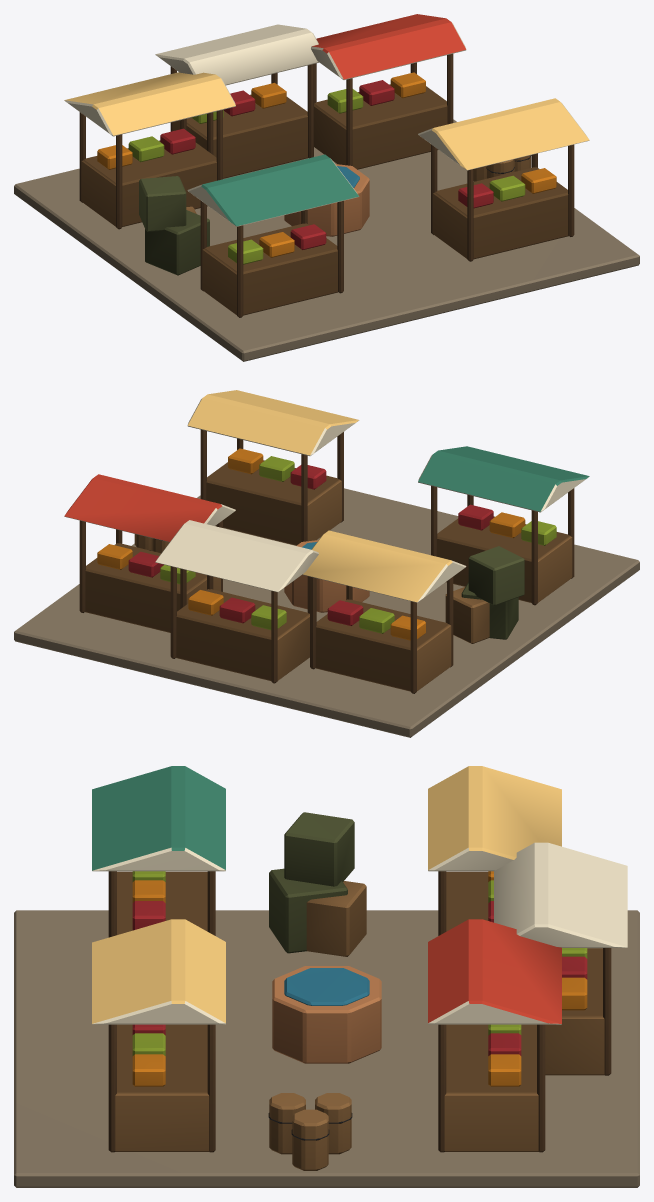
File: market.glb
3 renders of one model, top to bottom at view 1: azimuth 30°, elevation 25°; view 2: azimuth 150°, elevation 25°; view 3: azimuth 270°, elevation 25°, orthographic. The views are drawn at different scales.
Parts seen in each view (by area): view 1: market; view 2: market; view 3: market.
Boxes of the visible parts, bbox=[...] form: market: bbox=[14, 14, 639, 361]; market: bbox=[14, 390, 639, 737]; market: bbox=[14, 766, 639, 1187].
Bounding box in the file's own units: 1.9 × 0.58 × 1.9.
